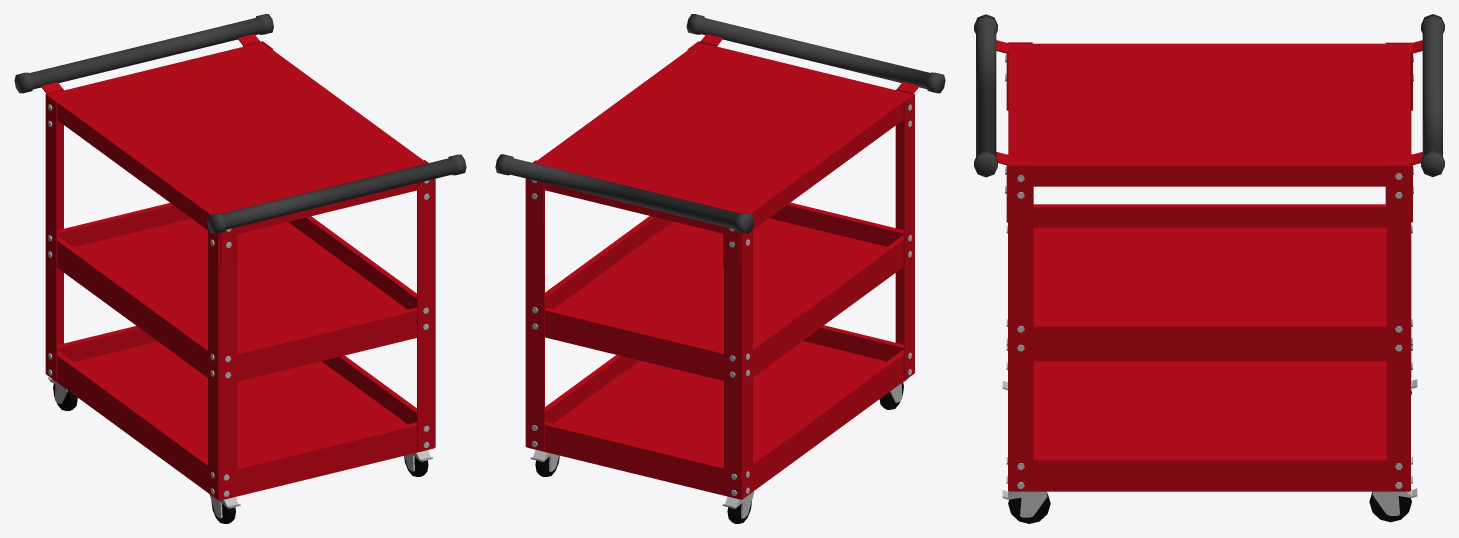
The model's file is rak perkakas badan.fbx.
3 renders of one model, left to right at view 1: azimuth 30°, elevation 25°; view 2: azimuth 150°, elevation 25°; view 3: azimuth 270°, elevation 25°, orthographic. The views are drawn at different scales.
Parts seen in each view (by area): view 1: rak, Circle.003; view 2: rak, Circle.003; view 3: rak, Circle.003.
Boxes of the visible parts, bbox=[...] form: rak: bbox=[14, 14, 466, 523]; Circle.003: bbox=[48, 104, 429, 496]; rak: bbox=[495, 14, 945, 523]; Circle.003: bbox=[531, 104, 912, 495]; rak: bbox=[974, 14, 1444, 523]; Circle.003: bbox=[1005, 54, 1413, 488].
Bounding box in the file's own units: 68.78 × 86.43 × 96.49.
